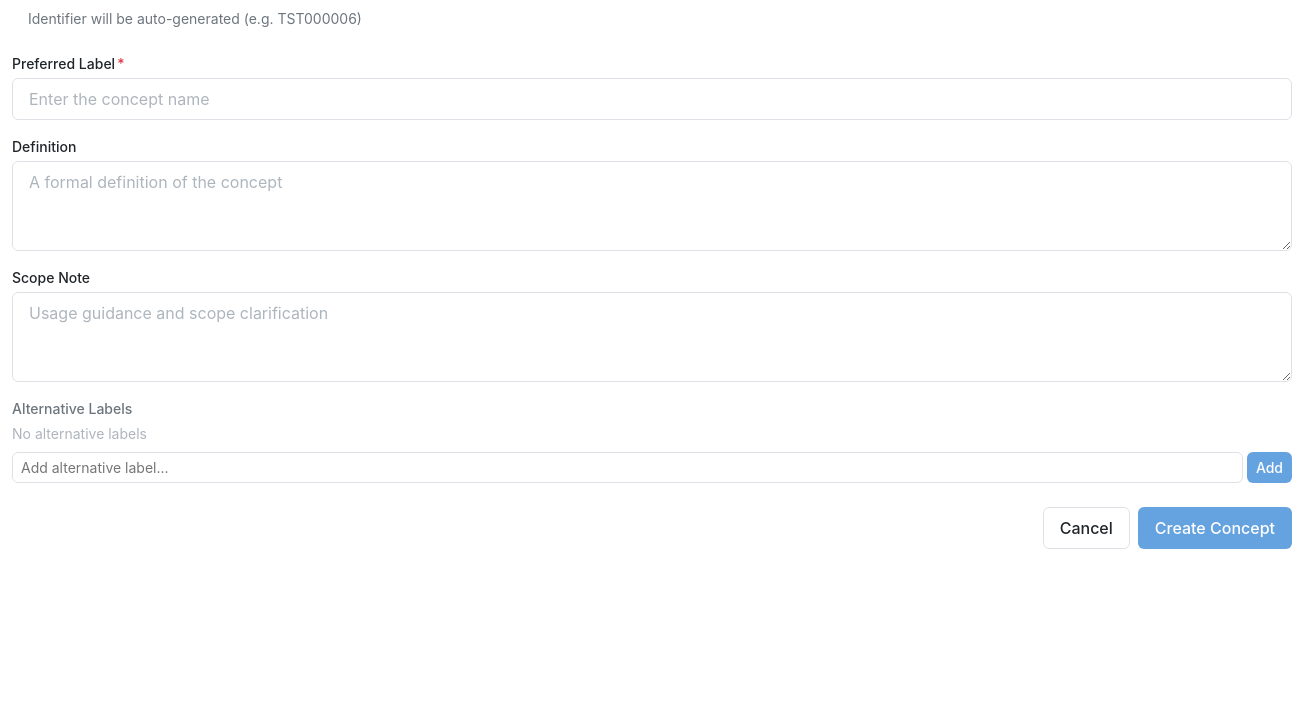
Test: ConceptForm › validation › enables submit when preferred label has value
The width and height of the screenshot is (1304, 720).
Type "My Concept" into the field labelled "Preferred Label*" at (652, 99), box x1=12 y1=78 x2=1292 y2=120
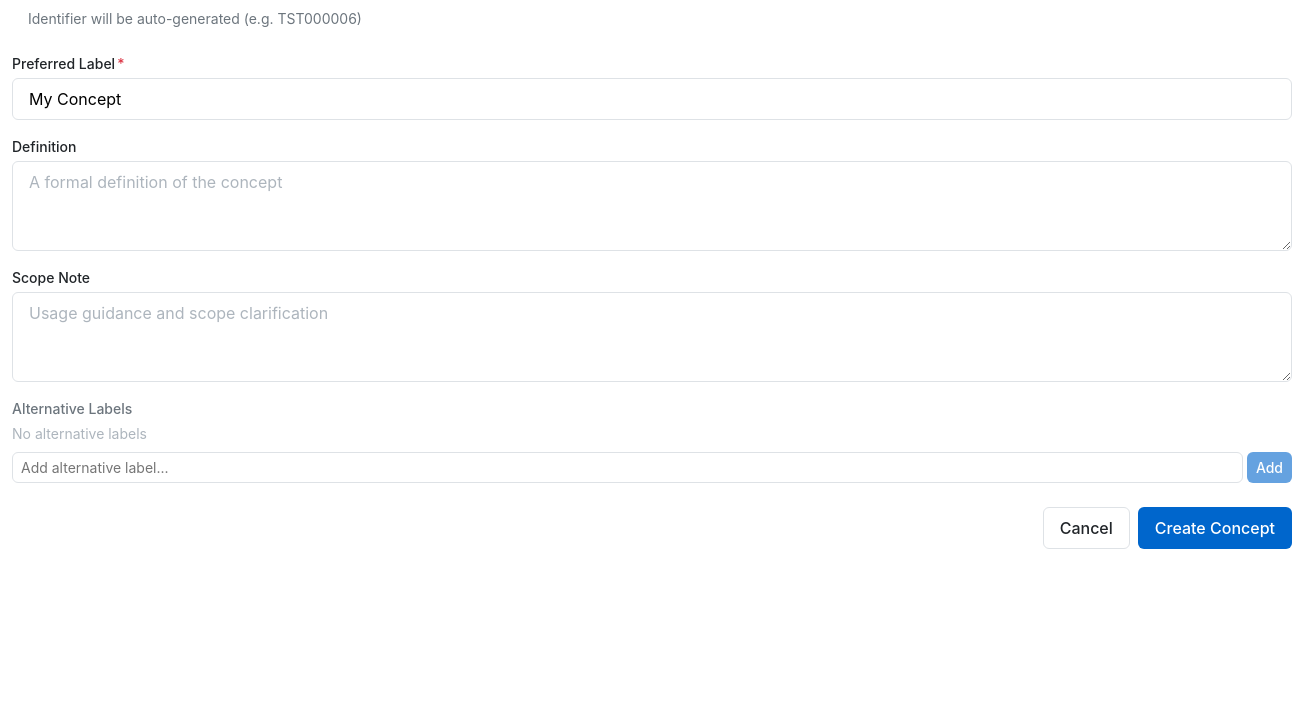
Expected: the button "Create Concept" is enabled, x1=1138 y1=507 x2=1292 y2=549
